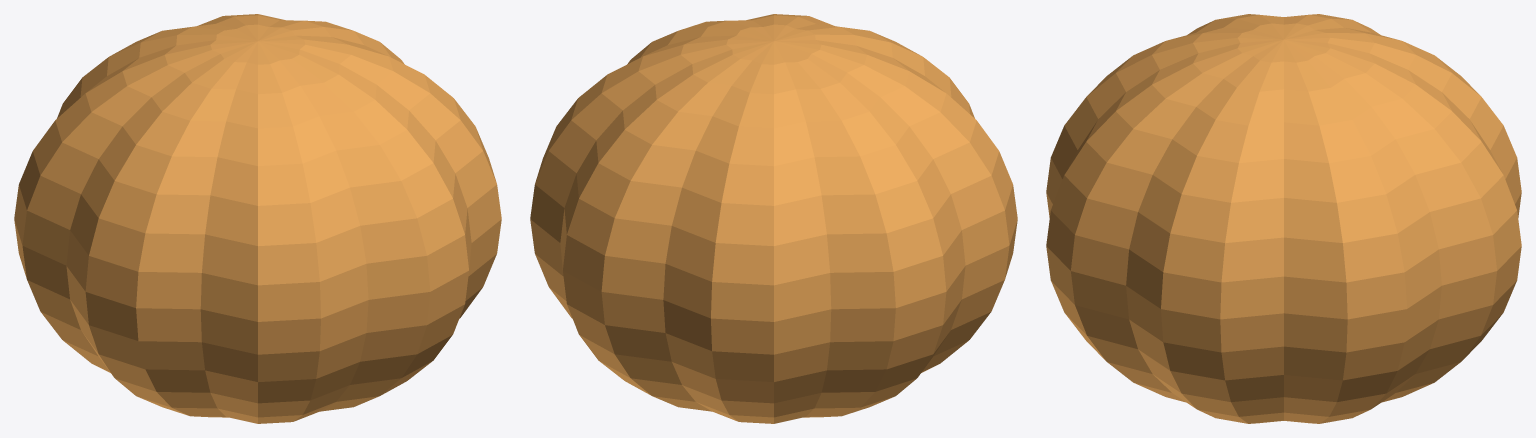
File: pumpkin.glb
The picture shows the model from 3 angles, left to right: view 1: azimuth 30°, elevation 25°; view 2: azimuth 150°, elevation 25°; view 3: azimuth 270°, elevation 25°; orthographic projection.
Visible parts, largest first — view 1: intact_mesh, shard_002, shard_006, shard_005, shard_003, shard_000, shard_004; view 2: intact_mesh, shard_006, shard_004, shard_000, shard_003, shard_001, shard_005; view 3: intact_mesh, shard_006, shard_003, shard_002, shard_005, shard_001, shard_000, shard_004.
Part boxes in pixels (x1=…): intact_mesh: x1=14, y1=14, x2=501, y2=423; shard_002: x1=137, y1=86, x2=463, y2=237; shard_006: x1=37, y1=44, x2=474, y2=221; shard_005: x1=98, y1=131, x2=496, y2=416; shard_003: x1=38, y1=121, x2=490, y2=417; shard_000: x1=86, y1=42, x2=433, y2=160; shard_004: x1=23, y1=99, x2=91, y2=363; intact_mesh: x1=530, y1=14, x2=1017, y2=423; shard_006: x1=553, y1=44, x2=992, y2=237; shard_004: x1=666, y1=206, x2=949, y2=421; shard_000: x1=599, y1=14, x2=949, y2=169; shard_003: x1=865, y1=159, x2=1011, y2=408; shard_001: x1=549, y1=121, x2=702, y2=405; shard_005: x1=990, y1=145, x2=1017, y2=253; intact_mesh: x1=1046, y1=14, x2=1521, y2=423; shard_006: x1=1185, y1=62, x2=1498, y2=234; shard_003: x1=1205, y1=230, x2=1327, y2=421; shard_002: x1=1069, y1=36, x2=1185, y2=227; shard_005: x1=1065, y1=120, x2=1204, y2=398; shard_001: x1=1327, y1=149, x2=1503, y2=421; shard_000: x1=1185, y1=21, x2=1455, y2=167; shard_004: x1=1491, y1=120, x2=1521, y2=212.
Size of the model in its own units: 0.862 by 0.7176 by 0.862.
